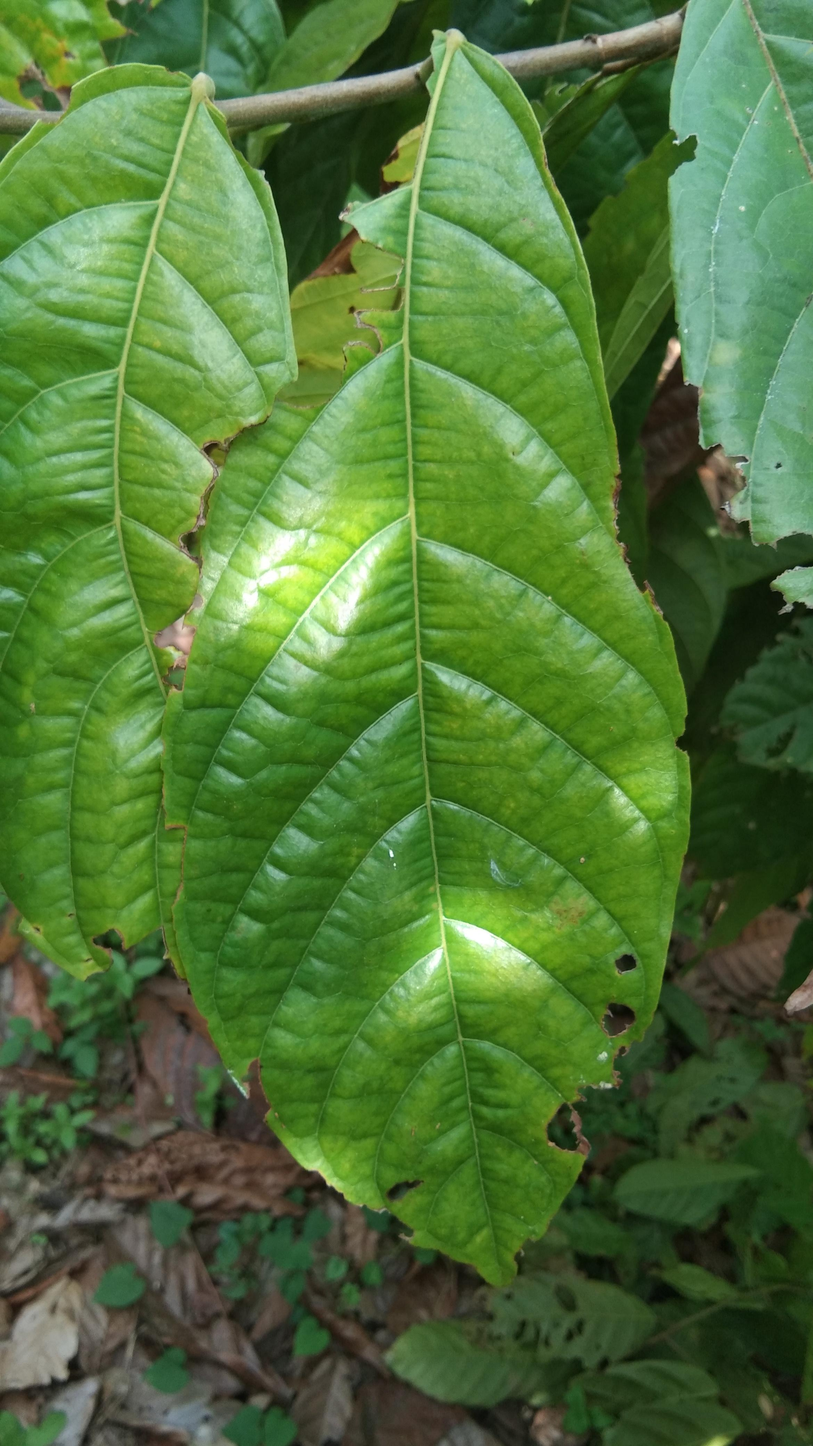deficiencia_potasio: (131, 25, 740, 1316)
